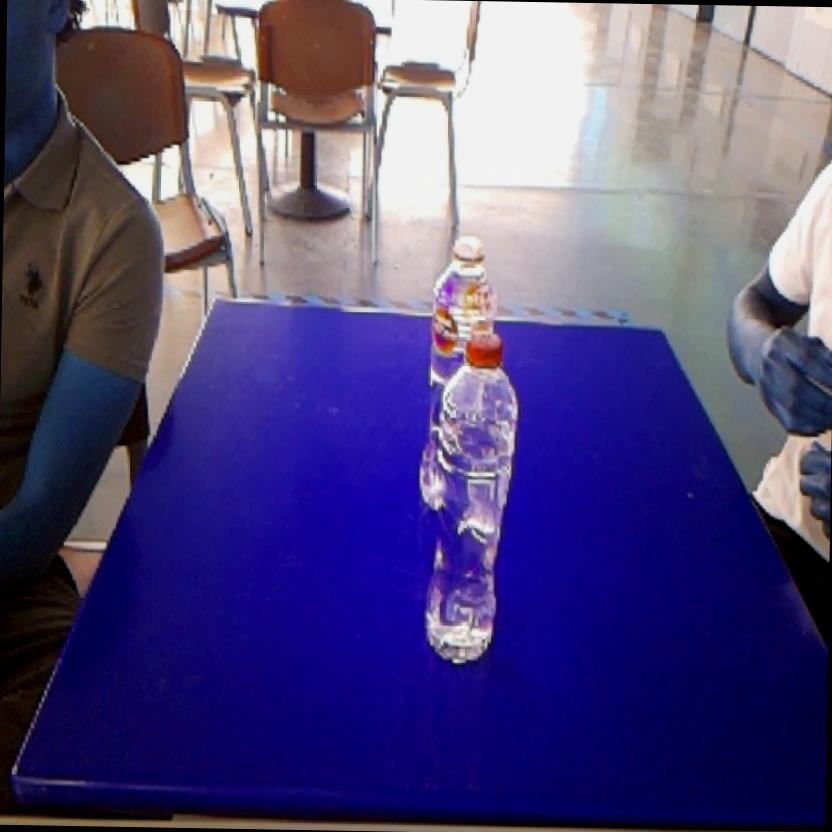no_cap: (424, 226, 510, 324)
no_label: (418, 328, 524, 672)
